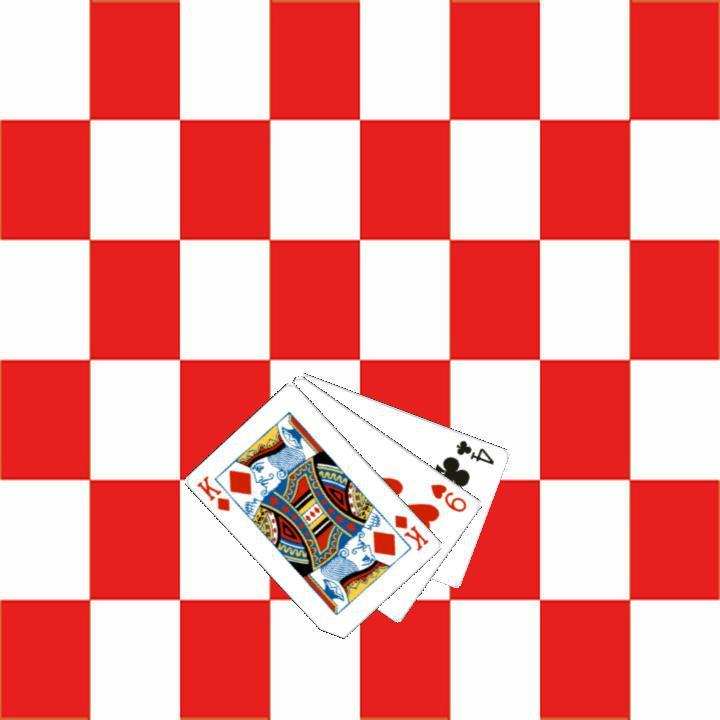4: (452, 436, 497, 466)
9: (426, 479, 469, 514)
K: (390, 510, 431, 553), (192, 471, 233, 514)
